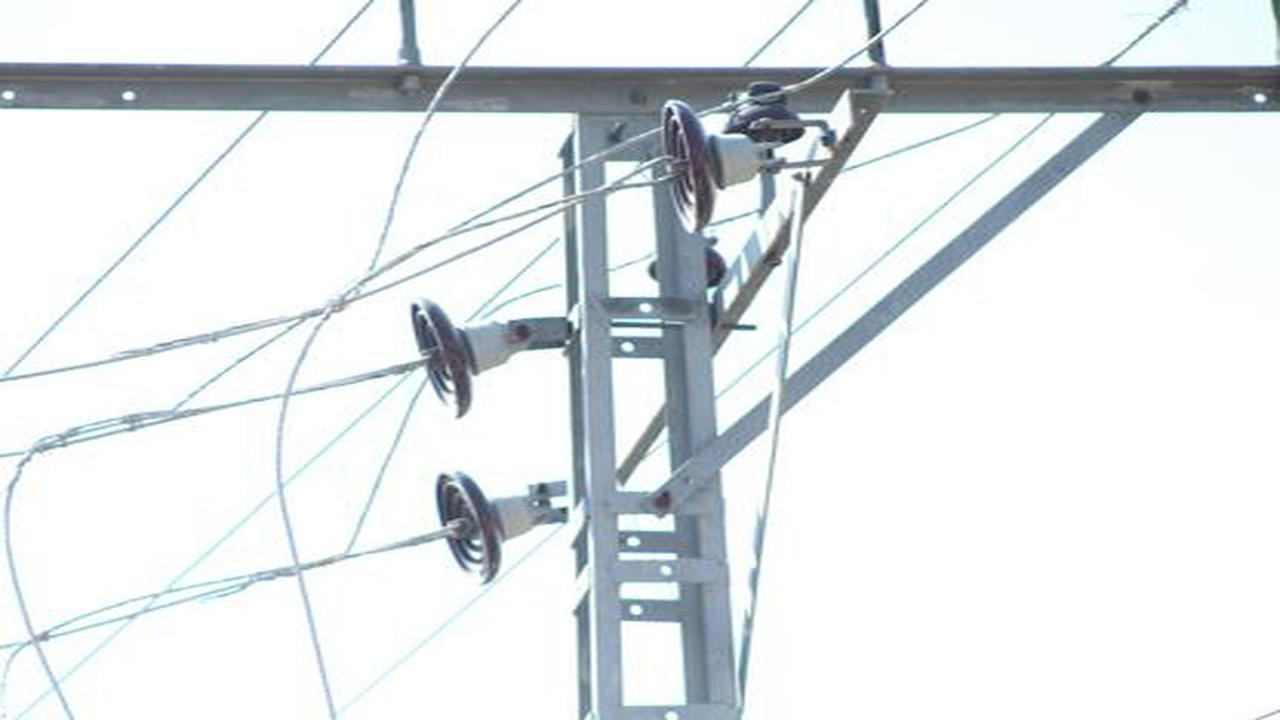insulator_disc: (432, 467, 540, 588), (407, 298, 506, 421), (657, 90, 735, 241)
insulator_pin: (723, 87, 805, 146)
